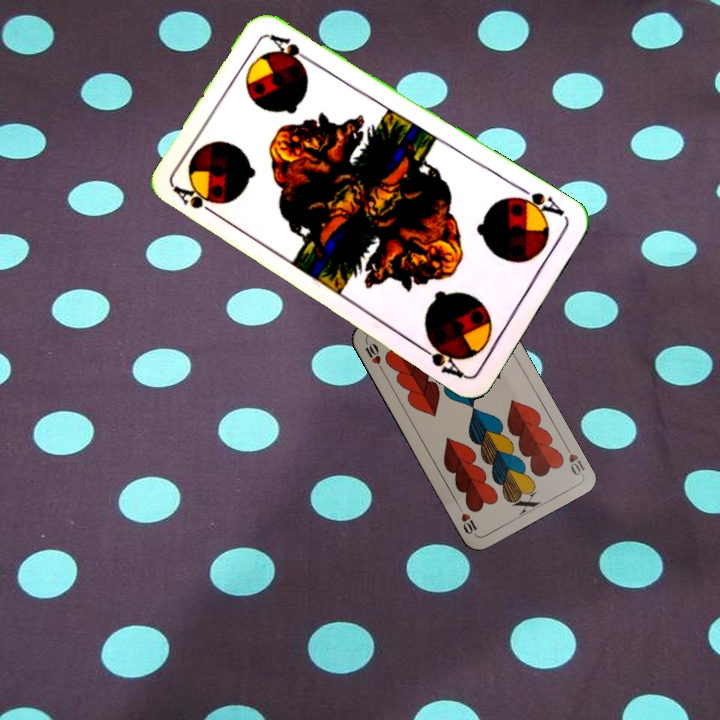H10: (560, 440, 587, 478), (361, 336, 386, 373)
SA: (508, 181, 567, 222), (171, 182, 224, 222)
